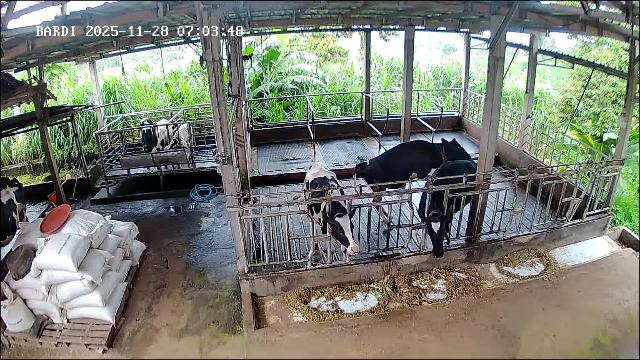mounting: (362, 137, 472, 231)
